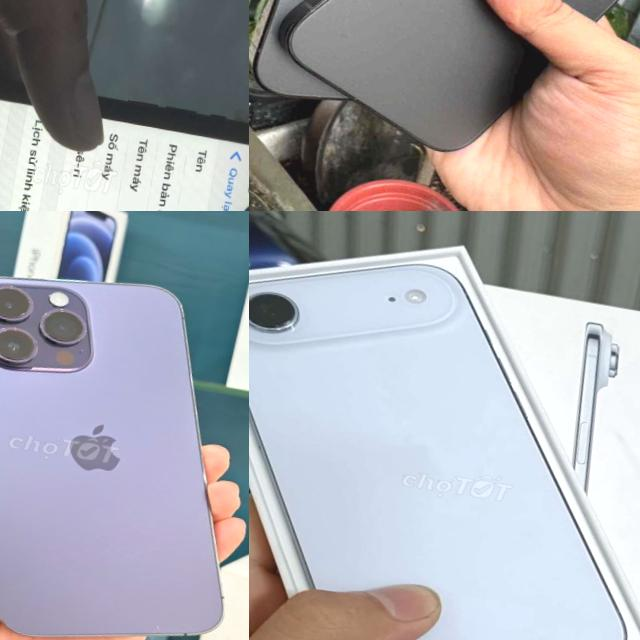gen_14: (0, 248, 249, 640), (249, 0, 607, 168)
gen_17: (249, 214, 640, 640)
gen_x_xs: (0, 46, 249, 211)
